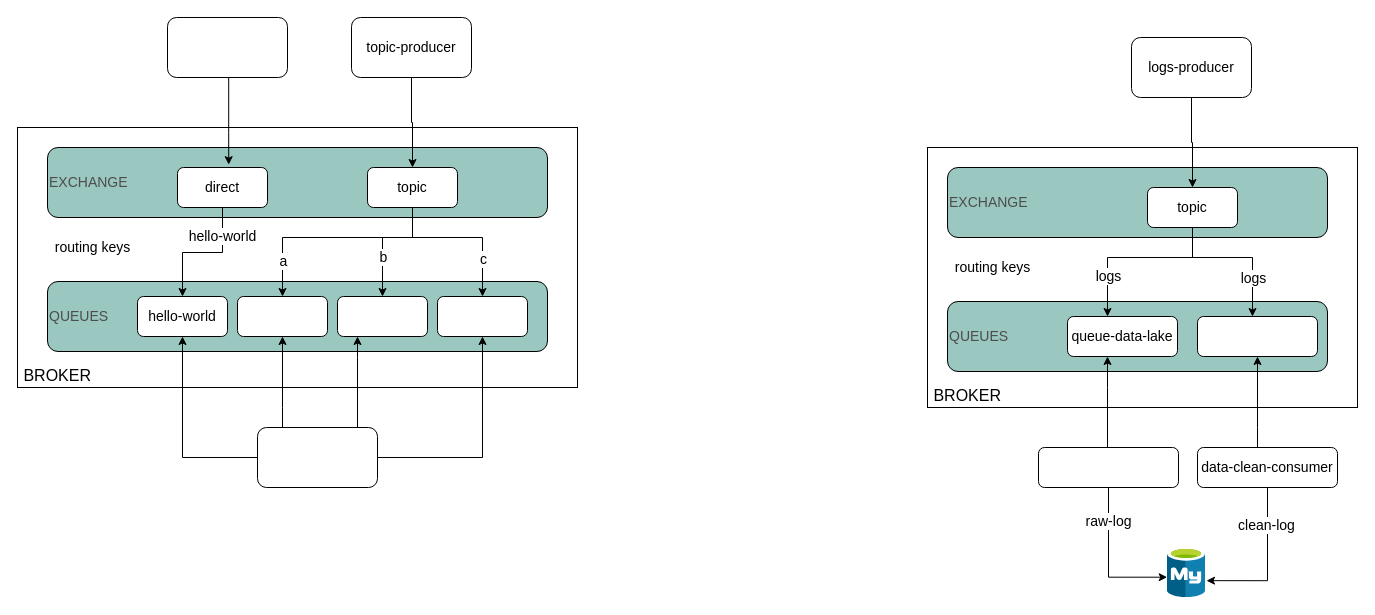
Image size: 1375x615. Some labels were removed from this diagram. Each missing label, with the box of its shape:
consumer: (256, 426, 378, 488)
data-lake-consumer: (1038, 446, 1178, 488)
direct-producer: (166, 16, 288, 78)
queue-a: (236, 296, 328, 336)
queue-b: (336, 296, 428, 336)
queue-c: (436, 296, 528, 336)
queue-data-clean: (1196, 316, 1318, 356)
